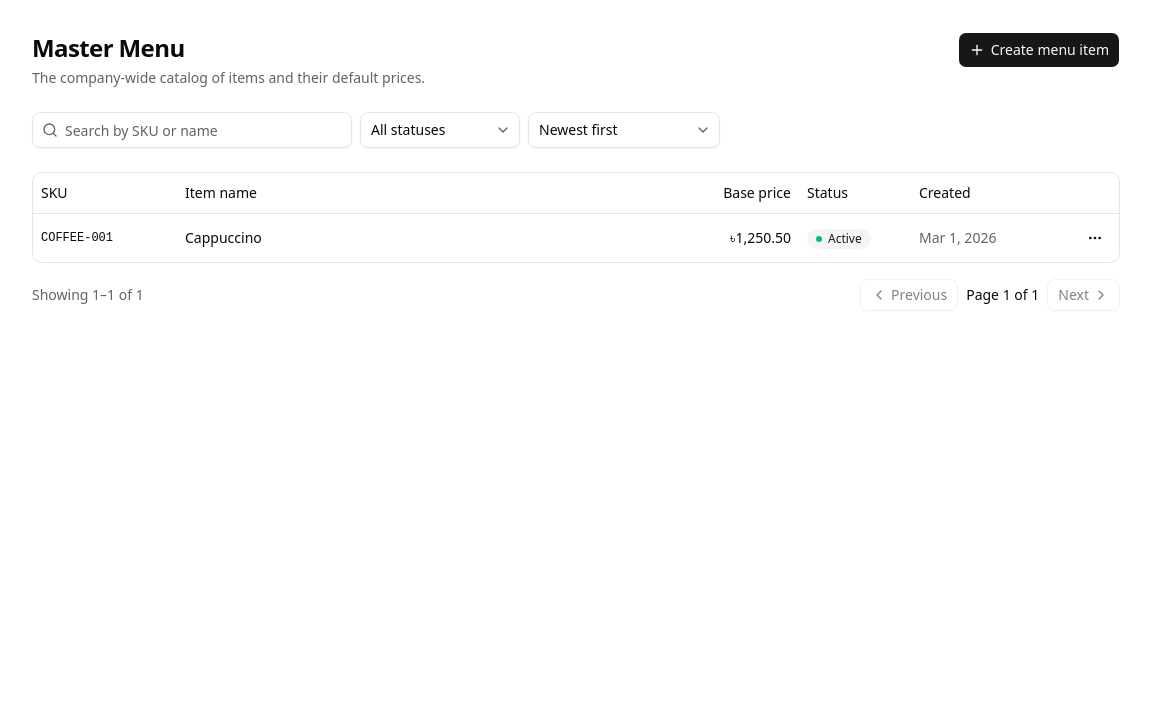
Test: Menu item forms › creates an item with a normalized decimal string and refreshes the list
The image size is (1152, 720).
Expected: the link "Cappuccino" is shown, x1=185 y1=228 x2=262 y2=246
Click the button "Create menu item".
click(1039, 50)  # box x1=958 y1=32 x2=1120 y2=68
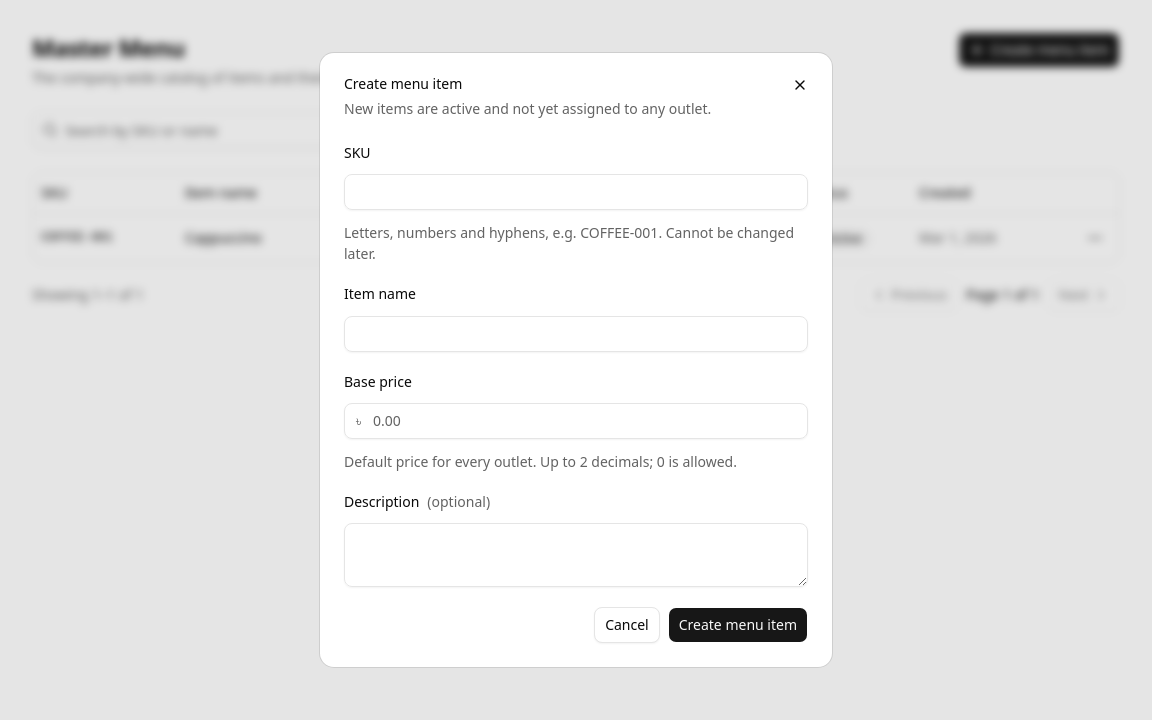
Type "tea-01" into the field labelled "SKU".
click(576, 192); type("tea-01")  # box x1=344 y1=174 x2=808 y2=210
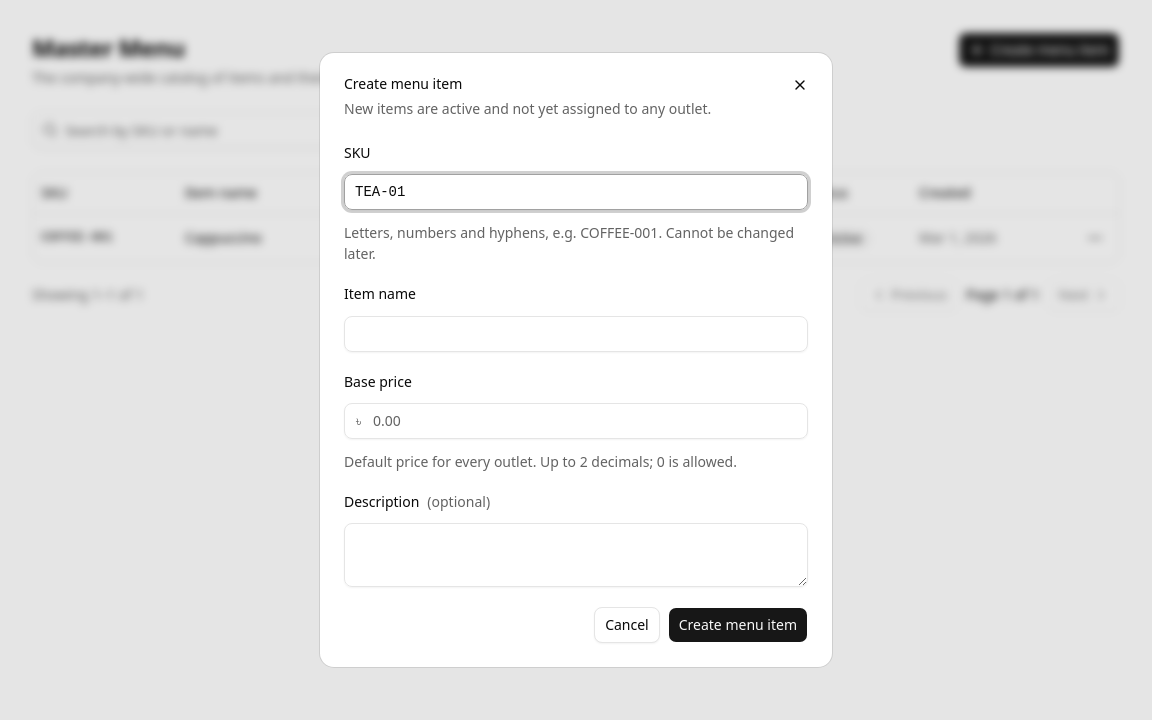
Type "Masala Tea" into the field labelled "Item name".
click(576, 334); type("Masala Tea")  # box x1=344 y1=316 x2=808 y2=352
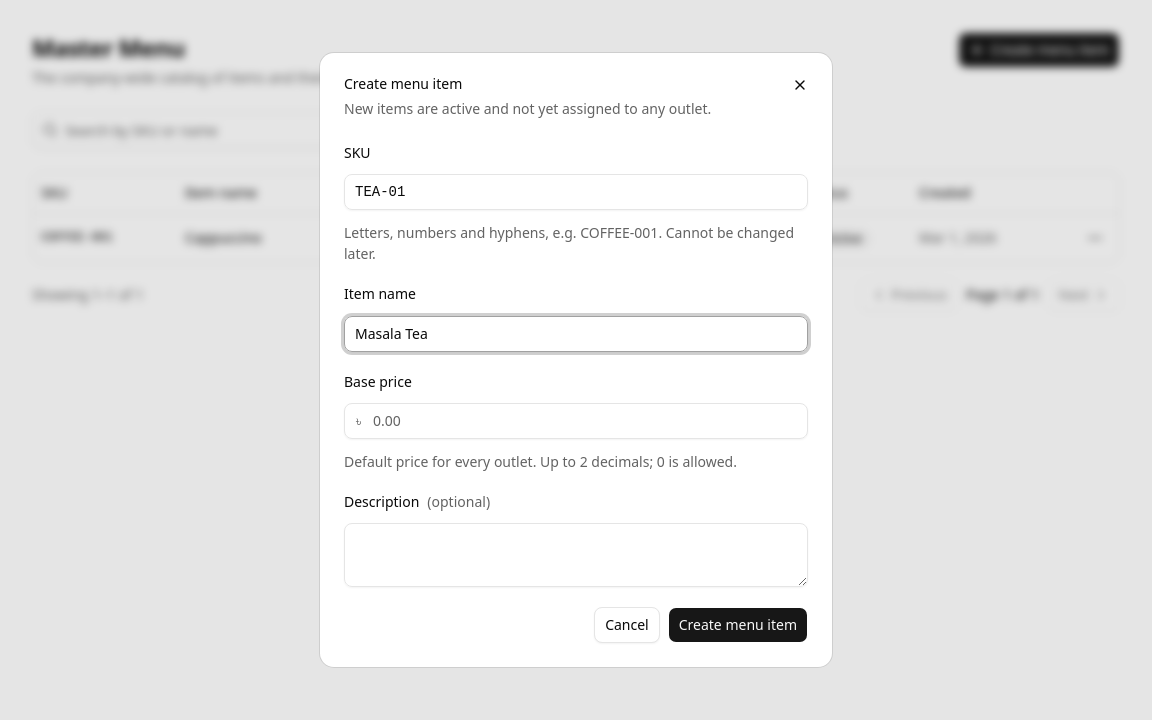
Type "0.1" into the field labelled "Base price".
click(576, 421); type("0.1")  # box x1=344 y1=403 x2=808 y2=439
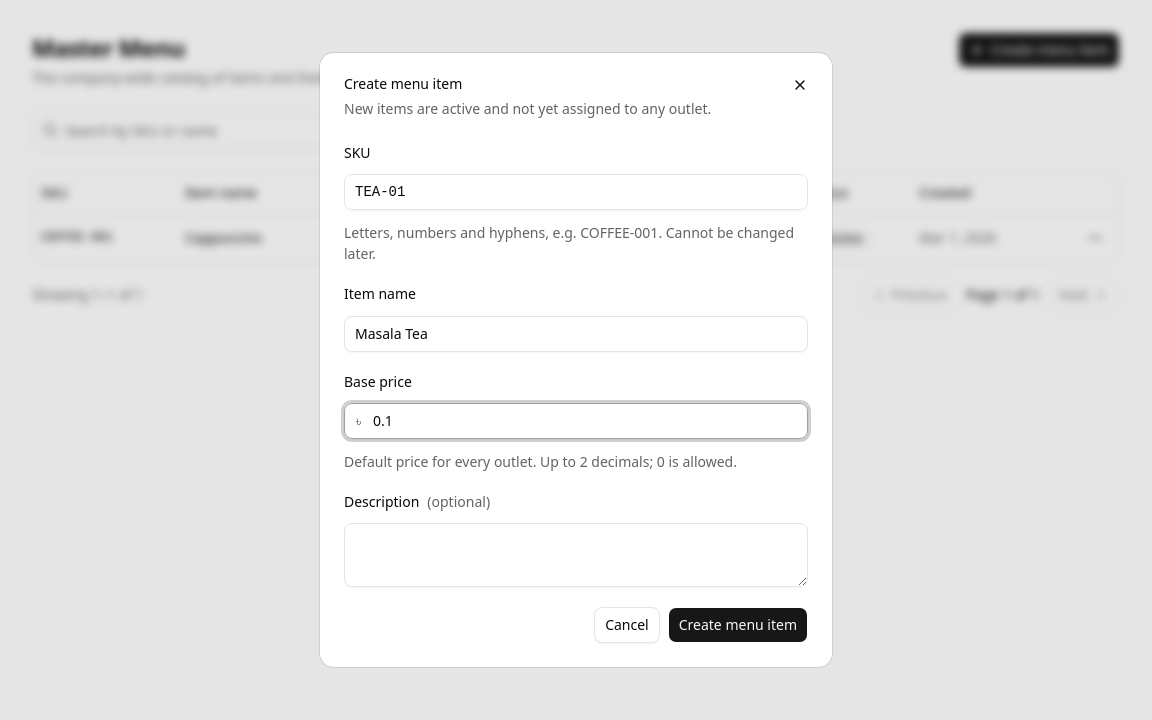
Click the button "Create menu item".
click(738, 625)  # box x1=668 y1=607 x2=808 y2=643
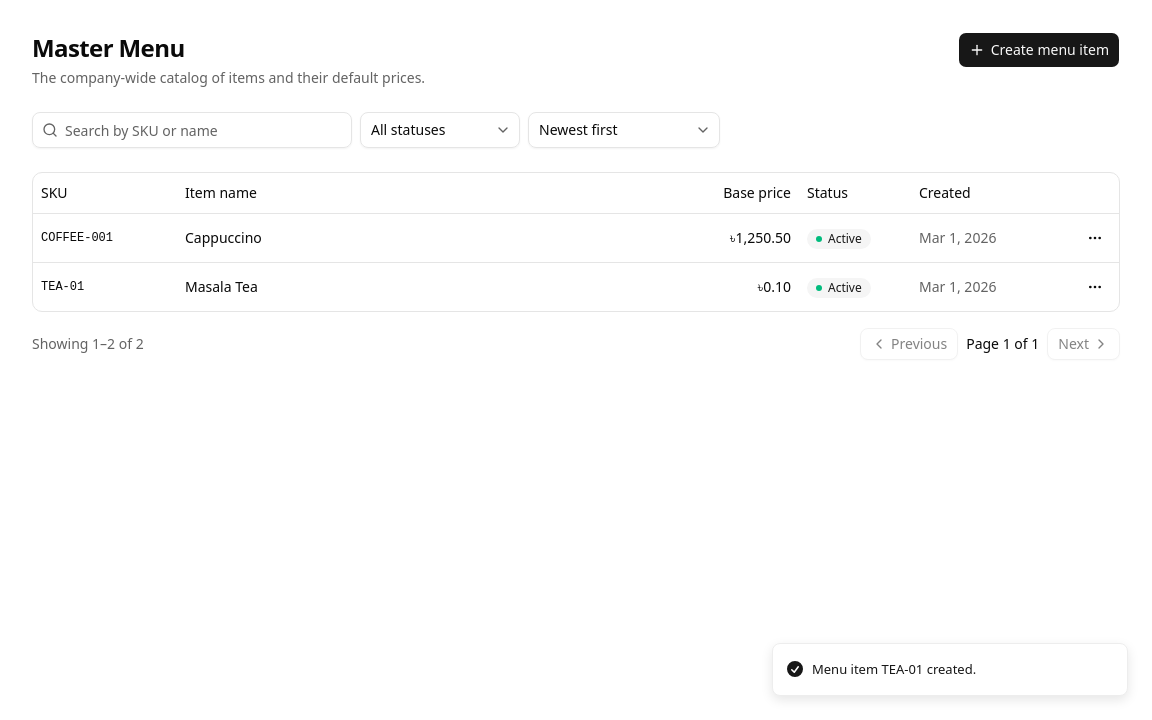
Now the text "Menu item TEA-01 created." is shown, box x1=812 y1=660 x2=976 y2=679
Now the text "৳0.10" is shown, box x1=671 y1=262 x2=799 y2=310
